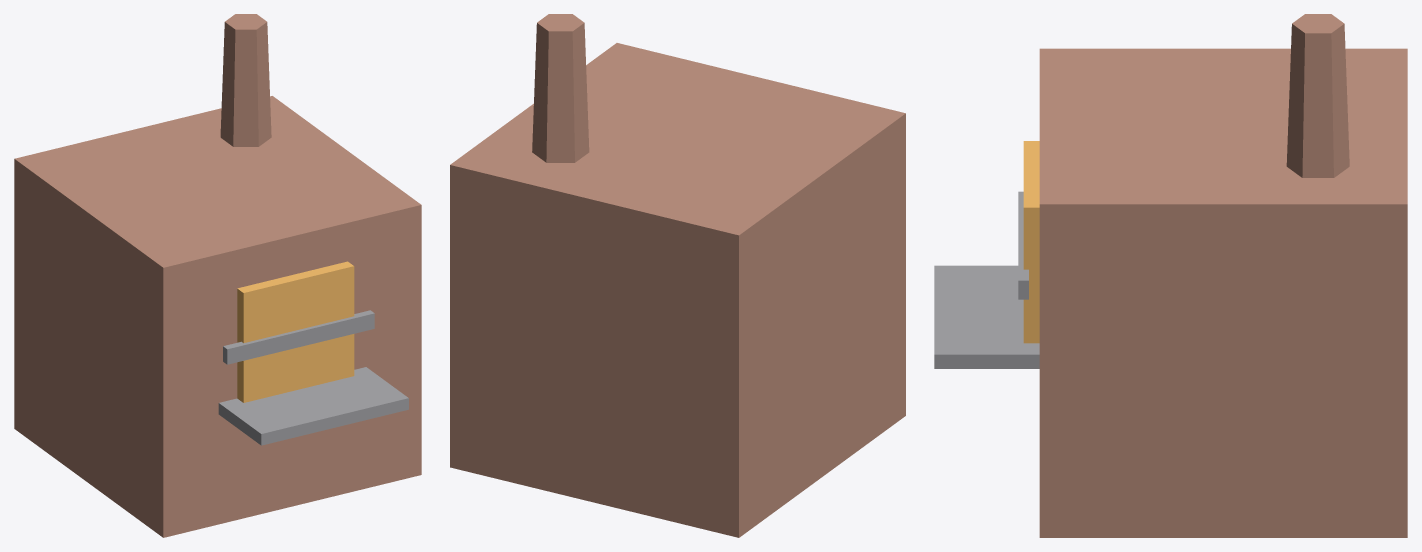
The model's file is prop-glory-hole-small.fbx.
The picture shows the model from 3 angles, left to right: view 1: azimuth 30°, elevation 25°; view 2: azimuth 150°, elevation 25°; view 3: azimuth 270°, elevation 25°; orthographic projection. The views are drawn at different scales.
Parts seen in each view (by area): view 1: prop-glory-hole-small; view 2: prop-glory-hole-small; view 3: prop-glory-hole-small.
Part boxes in pixels (x1,y1,x2,y2): prop-glory-hole-small: (14, 14, 421, 537); prop-glory-hole-small: (450, 14, 905, 537); prop-glory-hole-small: (934, 14, 1407, 537).
Bounding box in the file's own units: 70 × 100 × 90.
